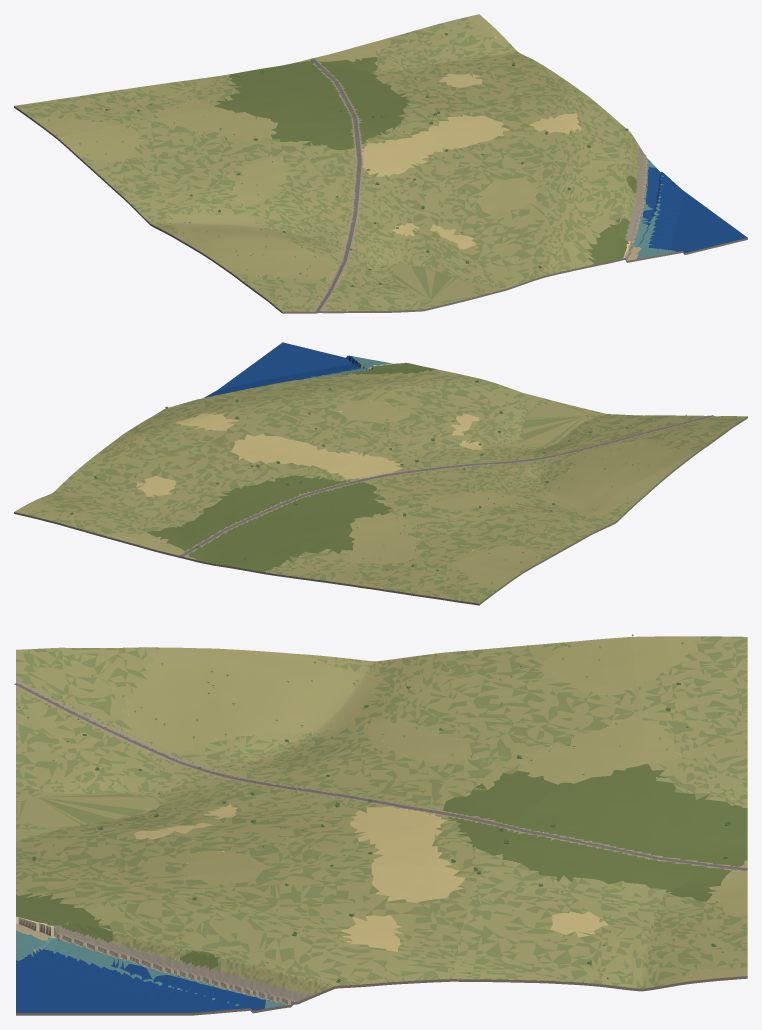
File: parca_+14_-4-yakin.glb
3 renders of one model, top to bottom at view 1: azimuth 30°, elevation 25°; view 2: azimuth 150°, elevation 25°; view 3: azimuth 270°, elevation 25°, orthographic. The views are drawn at different scales.
Visible parts, largest first — view 1: parca_+14_-4_arazi, parca_+14_-4_yollar, parca_+14_-4_bitkiler; view 2: parca_+14_-4_arazi, parca_+14_-4_yollar, parca_+14_-4_bitkiler; view 3: parca_+14_-4_arazi, parca_+14_-4_yollar, parca_+14_-4_bitkiler.
Part boxes in pixels (box(x1,y1,x2,y2)): parca_+14_-4_arazi: box(14, 14, 747, 313); parca_+14_-4_yollar: box(310, 58, 361, 311); parca_+14_-4_bitkiler: box(48, 30, 633, 309); parca_+14_-4_arazi: box(14, 342, 747, 605); parca_+14_-4_yollar: box(180, 415, 713, 556); parca_+14_-4_bitkiler: box(60, 379, 695, 583); parca_+14_-4_arazi: box(16, 636, 747, 1015); parca_+14_-4_yollar: box(14, 683, 747, 870); parca_+14_-4_bitkiler: box(18, 634, 736, 986).
Bounding box in the file's own units: 1001 × 108 × 1003.
